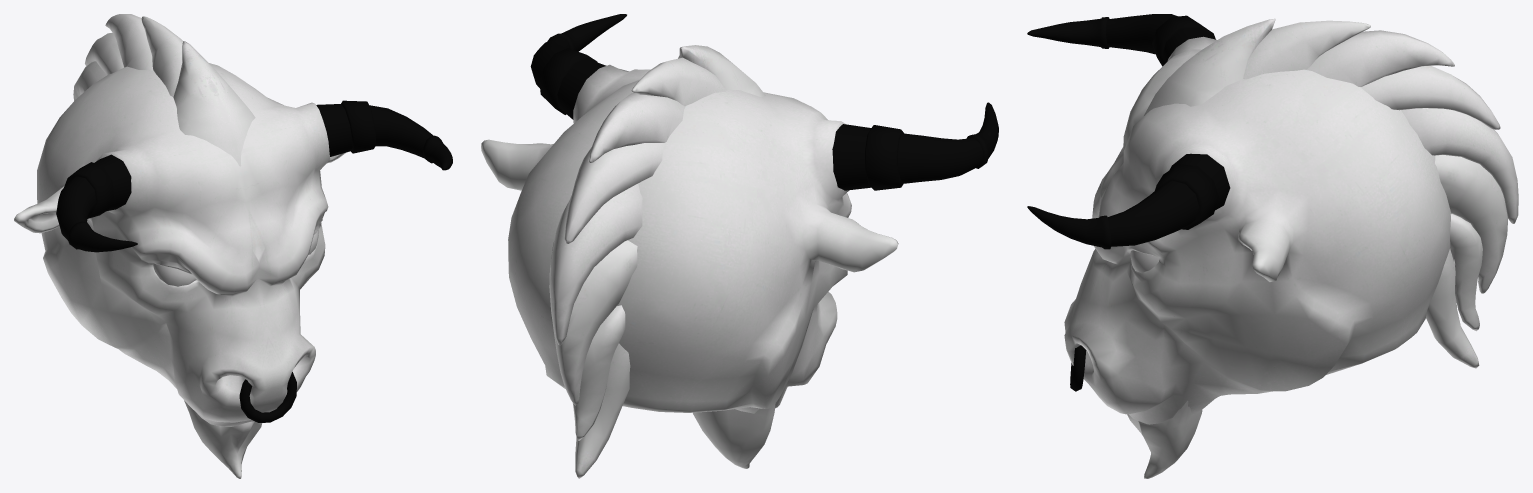
The model's file is SurvivorMale_Head_Mask_Minotaur_LOD0.glb.
3 renders of one model, left to right at view 1: azimuth 30°, elevation 25°; view 2: azimuth 150°, elevation 25°; view 3: azimuth 270°, elevation 25°, orthographic. The views are drawn at different scales.
Parts seen in each view (by area): view 1: Hoodie; view 2: Hoodie; view 3: Hoodie.
Part boxes in pixels (x1=…): Hoodie: x1=14, y1=14, x2=452, y2=478; Hoodie: x1=481, y1=14, x2=998, y2=478; Hoodie: x1=1027, y1=14, x2=1518, y2=478.
Size of the model in its own units: 0.3406 by 0.3453 by 0.3344.
Materials: 1 (1 with a texture image).
